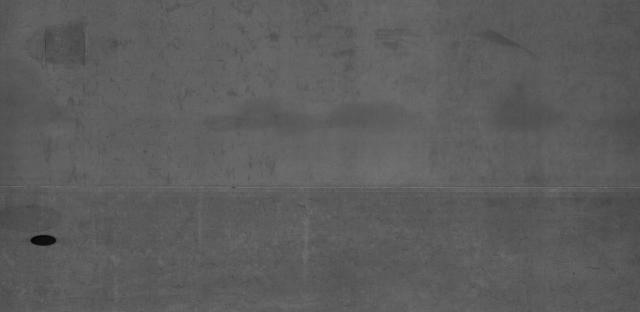punching_hole: (27, 230, 60, 250)
rolled_pit: (37, 22, 91, 73)
welding_line: (0, 179, 637, 201)
